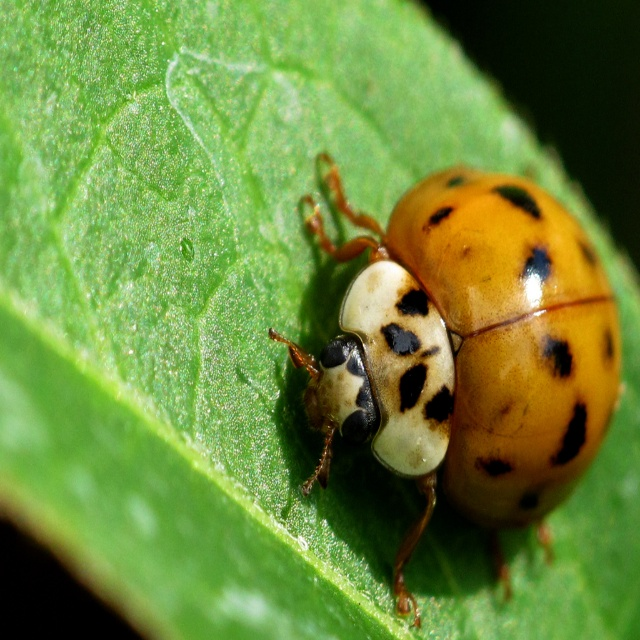Ladybug: (266, 151, 624, 629)
